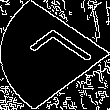L_SE: (15, 27, 95, 83)
